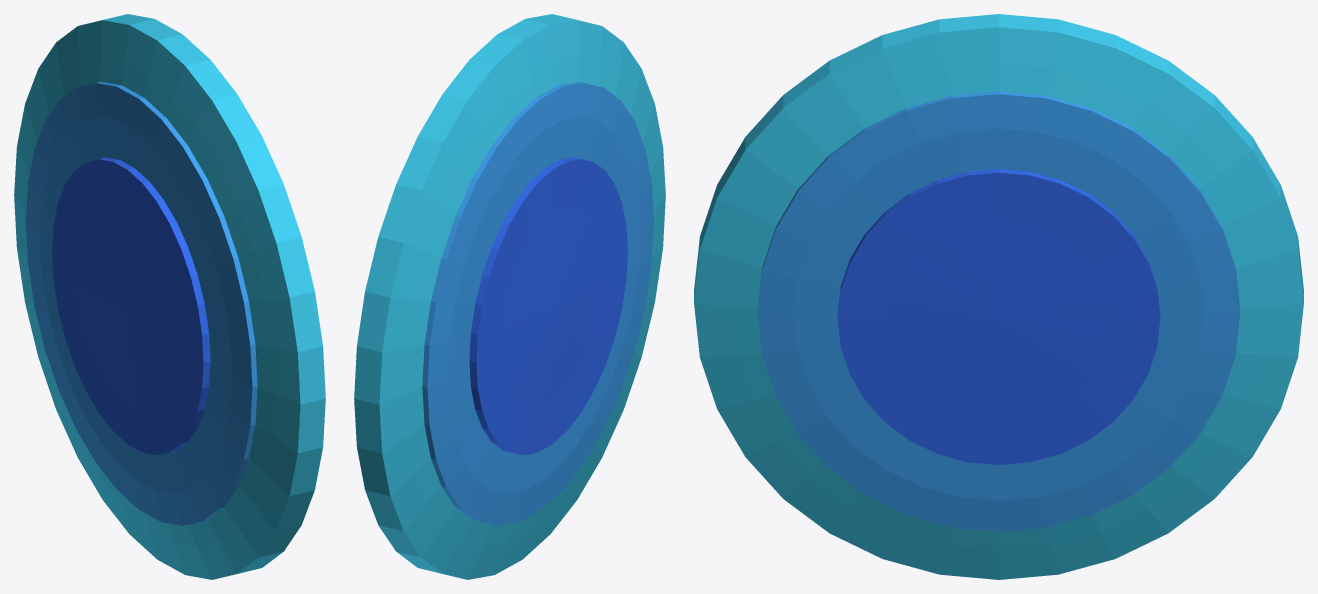
Rendered from targetBlue.fbx.
3 views of the same model, side by side, from view 1: azimuth 30°, elevation 25°; view 2: azimuth 150°, elevation 25°; view 3: azimuth 270°, elevation 25° (orthographic). The views are drawn at different scales.
Visible parts, largest first — view 1: Sphere; view 2: Sphere; view 3: Sphere.
Part boxes in pixels (x1,y1,x2,y2): Sphere: [14, 14, 325, 579]; Sphere: [354, 14, 665, 579]; Sphere: [694, 14, 1303, 579].
Size of the model in its own units: 3.77 by 21.01 by 21.01.
